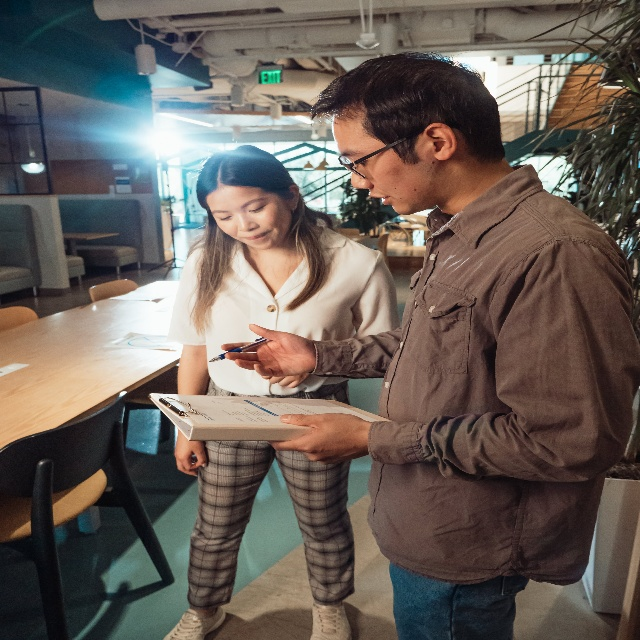Gafas: (338, 137, 407, 181)
Sin_guantes: (221, 324, 316, 376), (269, 413, 357, 461), (174, 429, 207, 476), (268, 373, 308, 388)
